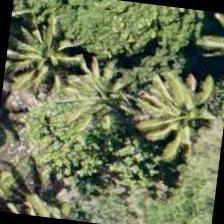Kelapa_Sawit: (55, 42, 156, 142), (123, 66, 223, 166), (1, 10, 92, 109)
